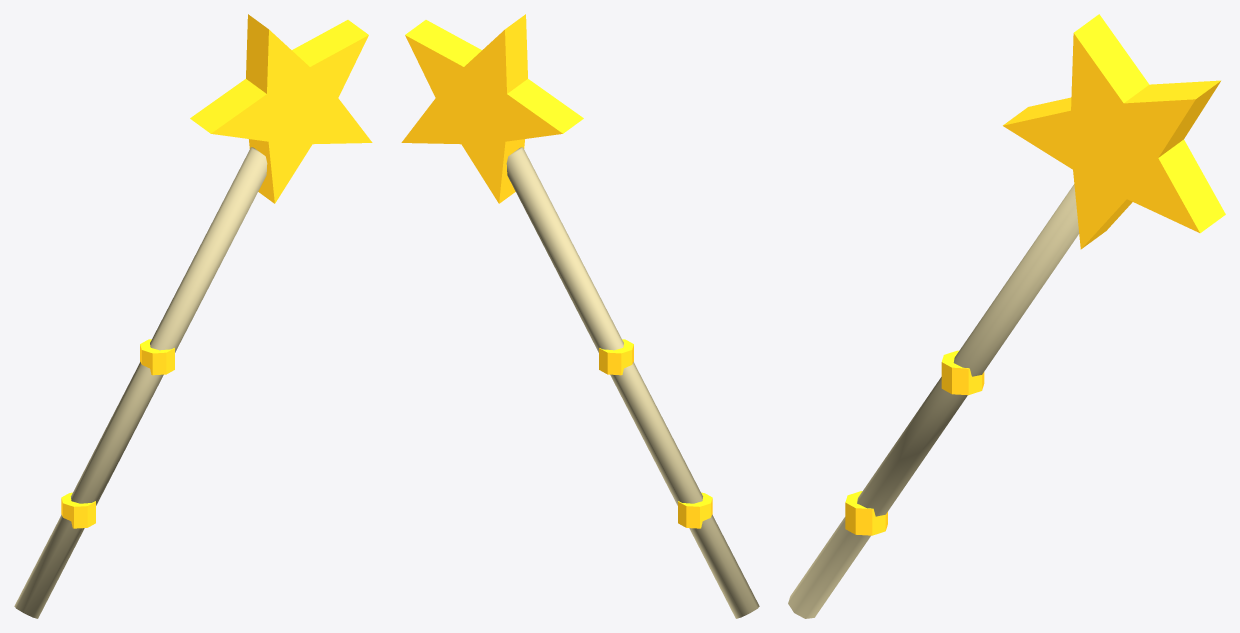
The model's file is hand_wand.glb.
3 renders of one model, left to right at view 1: azimuth 30°, elevation 25°; view 2: azimuth 150°, elevation 25°; view 3: azimuth 330°, elevation 25°, orthographic. The views are drawn at different scales.
Visible parts, largest first — view 1: hand_wand_q; view 2: hand_wand_q; view 3: hand_wand_q.
Boxes of the visible parts, bbox=[...] form: hand_wand_q: bbox=[14, 14, 372, 618]; hand_wand_q: bbox=[401, 14, 759, 618]; hand_wand_q: bbox=[788, 14, 1225, 618].
Size of the model in its own units: 1.33 by 1.98 by 0.14.
